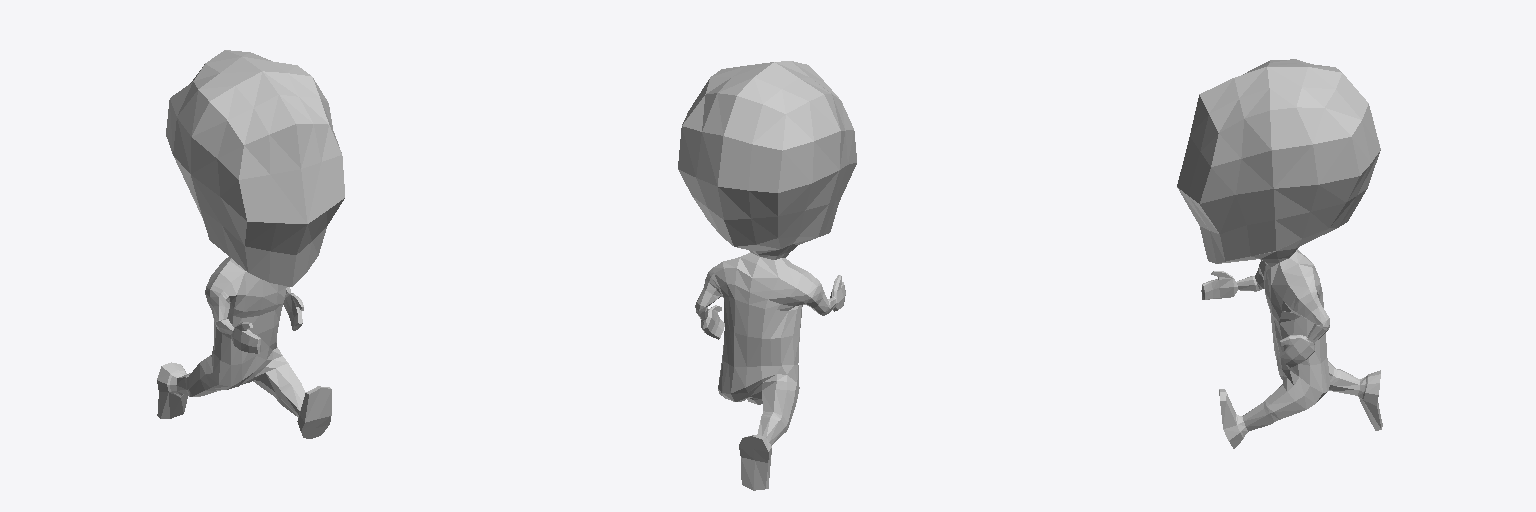
The model's file is char_000014.obj.
3 renders of one model, left to right at view 1: azimuth 30°, elevation 25°; view 2: azimuth 150°, elevation 25°; view 3: azimuth 270°, elevation 25°, orthographic.
Visible parts, largest first — view 1: lp_guy_mesh_Cube; view 2: lp_guy_mesh_Cube; view 3: lp_guy_mesh_Cube.
Part boxes in pixels (x1,y1,x2,y2): lp_guy_mesh_Cube: (157, 50, 344, 438); lp_guy_mesh_Cube: (678, 61, 856, 490); lp_guy_mesh_Cube: (1177, 59, 1382, 448).
Size of the model in its own units: 0.7344 by 1.94 by 0.9546.